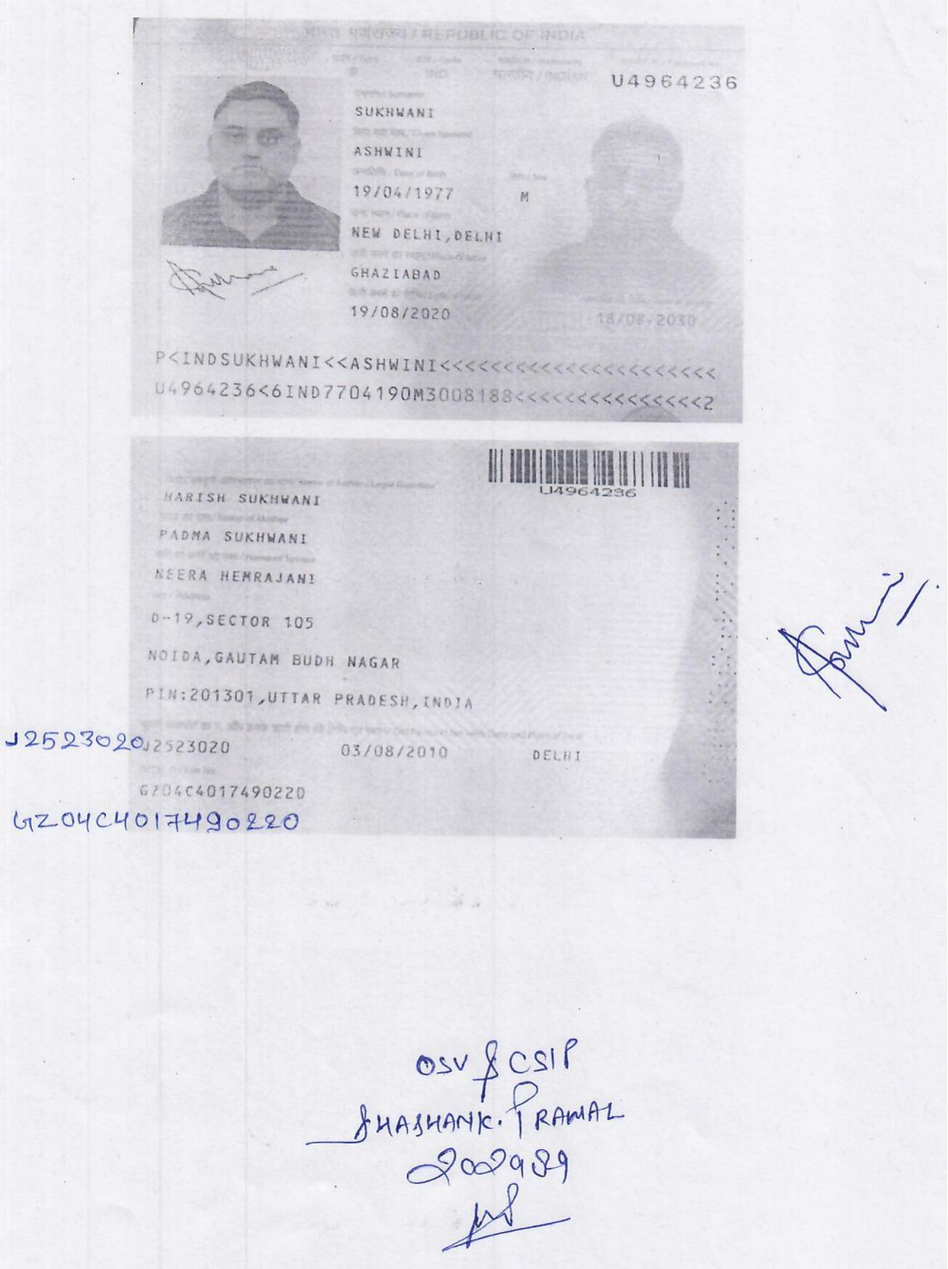DOB: (346, 176, 462, 208)
File_no: (134, 779, 317, 804)
Surname: (347, 100, 444, 125)
address: (136, 593, 485, 718)
country_code: (415, 68, 458, 86)
date_of_expiry: (586, 304, 708, 334)
date_of_issue: (340, 299, 456, 326)
details: (145, 345, 728, 413)
father_name: (159, 483, 326, 515)
mother_name: (152, 525, 313, 550)
name: (342, 141, 486, 166)
nationality: (343, 179, 459, 208), (486, 60, 594, 88)
old_passport_details: (133, 730, 595, 770)
passport_no: (600, 65, 750, 97), (527, 477, 643, 508)
photo: (171, 75, 339, 243)
place_of_birth: (347, 224, 512, 251)
place_of_issue: (342, 258, 454, 288)
sex: (506, 181, 547, 212)
sign: (162, 254, 307, 307)
spouse_name: (150, 560, 321, 593)
type: (340, 60, 380, 85)
